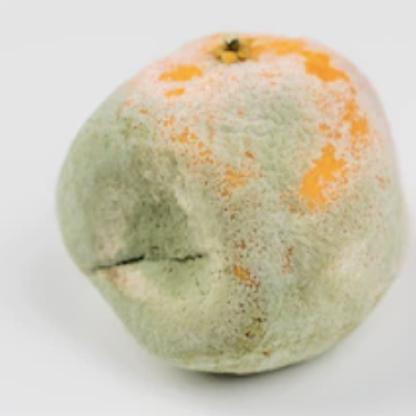rotten: (55, 33, 403, 380)
